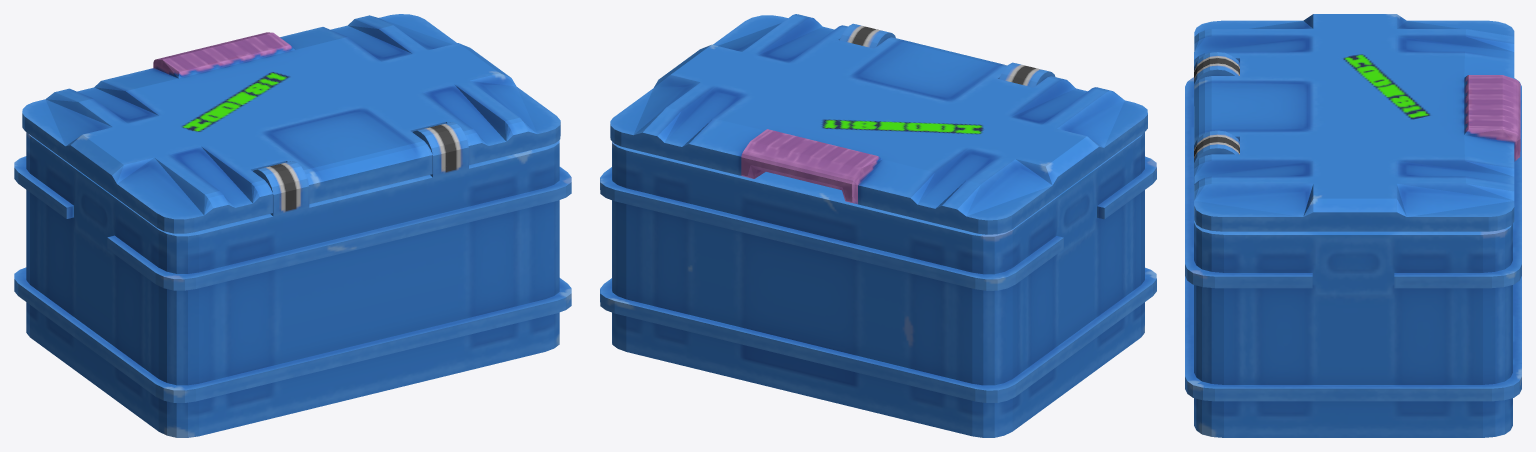
File: P_Toolbox_002_S1_M01.obj
The picture shows the model from 3 angles, left to right: view 1: azimuth 30°, elevation 25°; view 2: azimuth 150°, elevation 25°; view 3: azimuth 270°, elevation 25°; orthographic projection.
Bounding box in the file's own units: 0.9778 × 0.5398 × 0.6875.
Materials: 2 (2 with a texture image).
